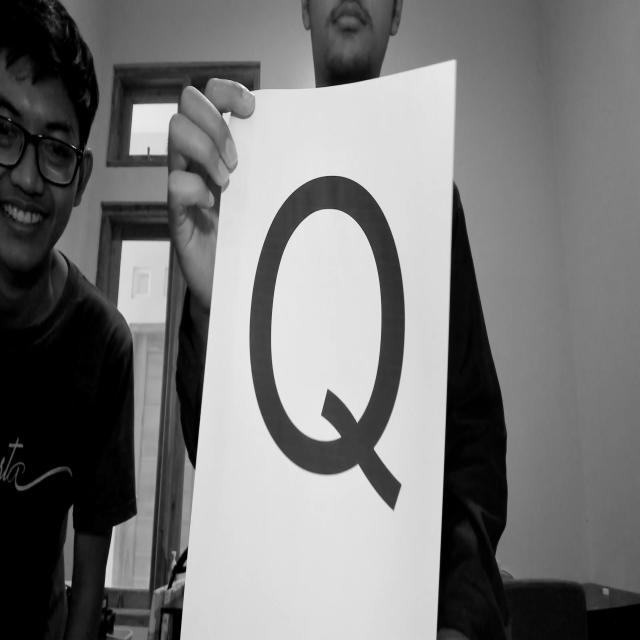q: (226, 150, 424, 526)
